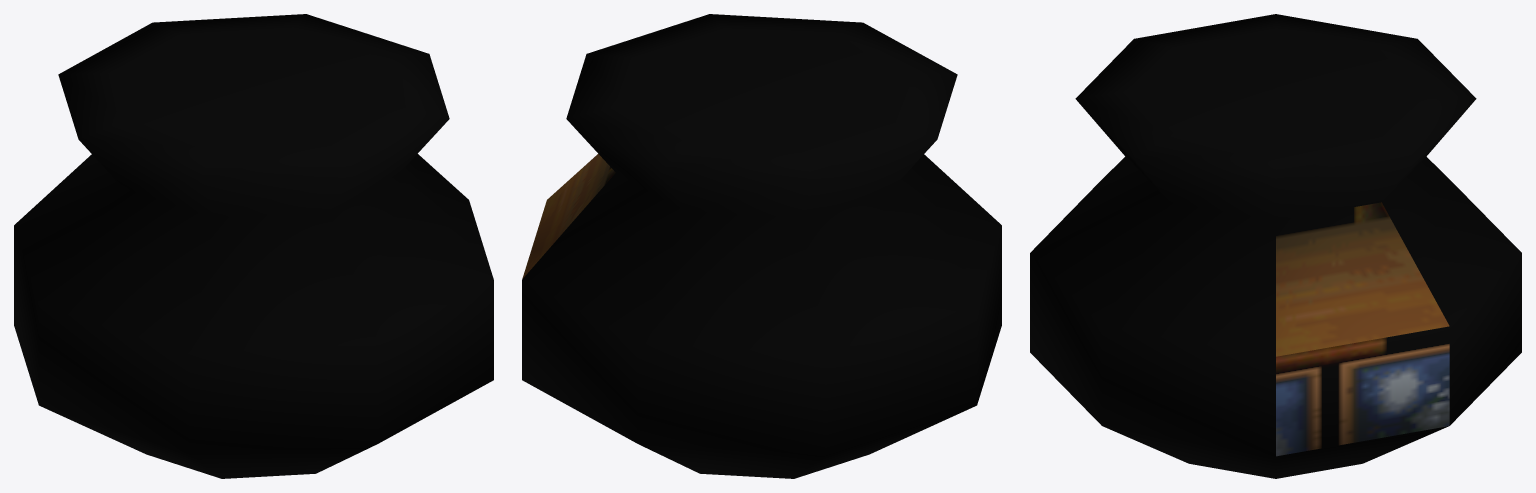
3 views of the same model, side by side, from view 1: azimuth 30°, elevation 25°; view 2: azimuth 150°, elevation 25°; view 3: azimuth 270°, elevation 25° (orthographic).
Visible parts, largest first — view 1: T1L3M002_0; view 2: T1L3M002_0; view 3: T1L3M002_0.
Boxes of the visible parts, <box> form: T1L3M002_0: <box>14,14,493,478</box>; T1L3M002_0: <box>522,14,1001,478</box>; T1L3M002_0: <box>1030,14,1521,478</box>.
Size of the model in its own units: 2.13 by 1.61 by 2.13.
